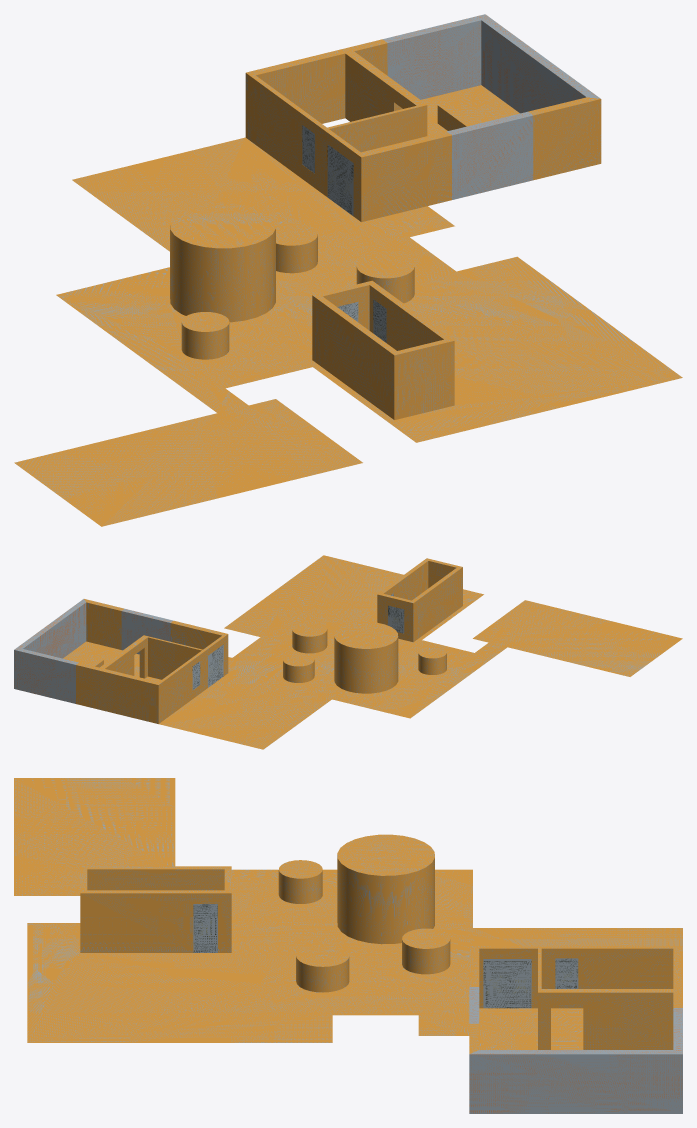
Rendered from favela2.fbx.
3 views of the same model, one above another, from view 1: azimuth 30°, elevation 25°; view 2: azimuth 150°, elevation 25°; view 3: azimuth 270°, elevation 25° (orthographic). The views are drawn at different scales.
Parts seen in each view (by area): view 1: Model, Group4; view 2: Model, Group4, Group1; view 3: Model, Group4, Group2, Group3.
Part boxes in pixels (x1,y1,x2,y2): Model: [14, 14, 682, 526]; Group4: [327, 144, 353, 216]; Model: [14, 555, 682, 749]; Group4: [208, 644, 223, 687]; Group1: [388, 605, 404, 633]; Model: [14, 778, 682, 1113]; Group4: [483, 959, 531, 1008]; Group2: [193, 904, 217, 952]; Group3: [555, 958, 578, 988].
Size of the model in its own units: 40.25 by 3.82 by 33.89.
